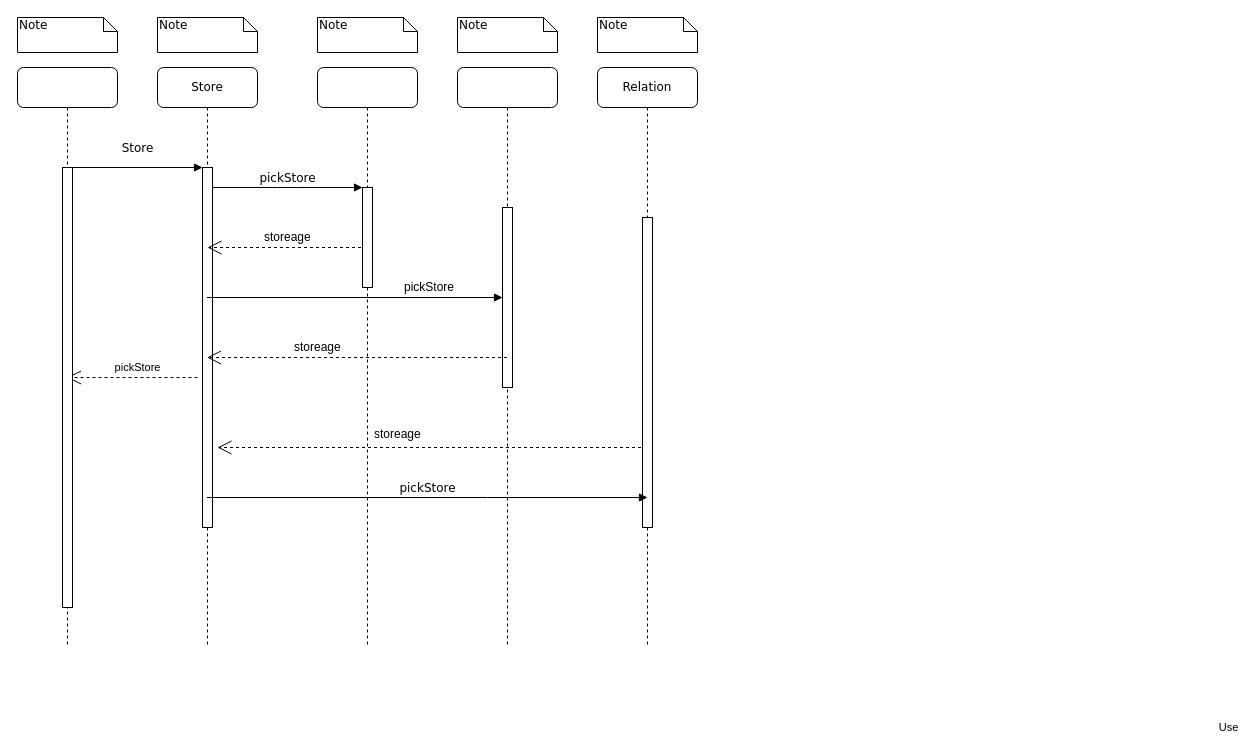
The diagram is 1255 pixels wide and 751 high, and some of its shapes have lost their labels. The box of each missing label's shape, as (x1, y1, x2, y2) in pixels:
Graph: (316, 66, 418, 648)
Main: (16, 66, 118, 648)
NoSQL: (456, 66, 558, 648)
